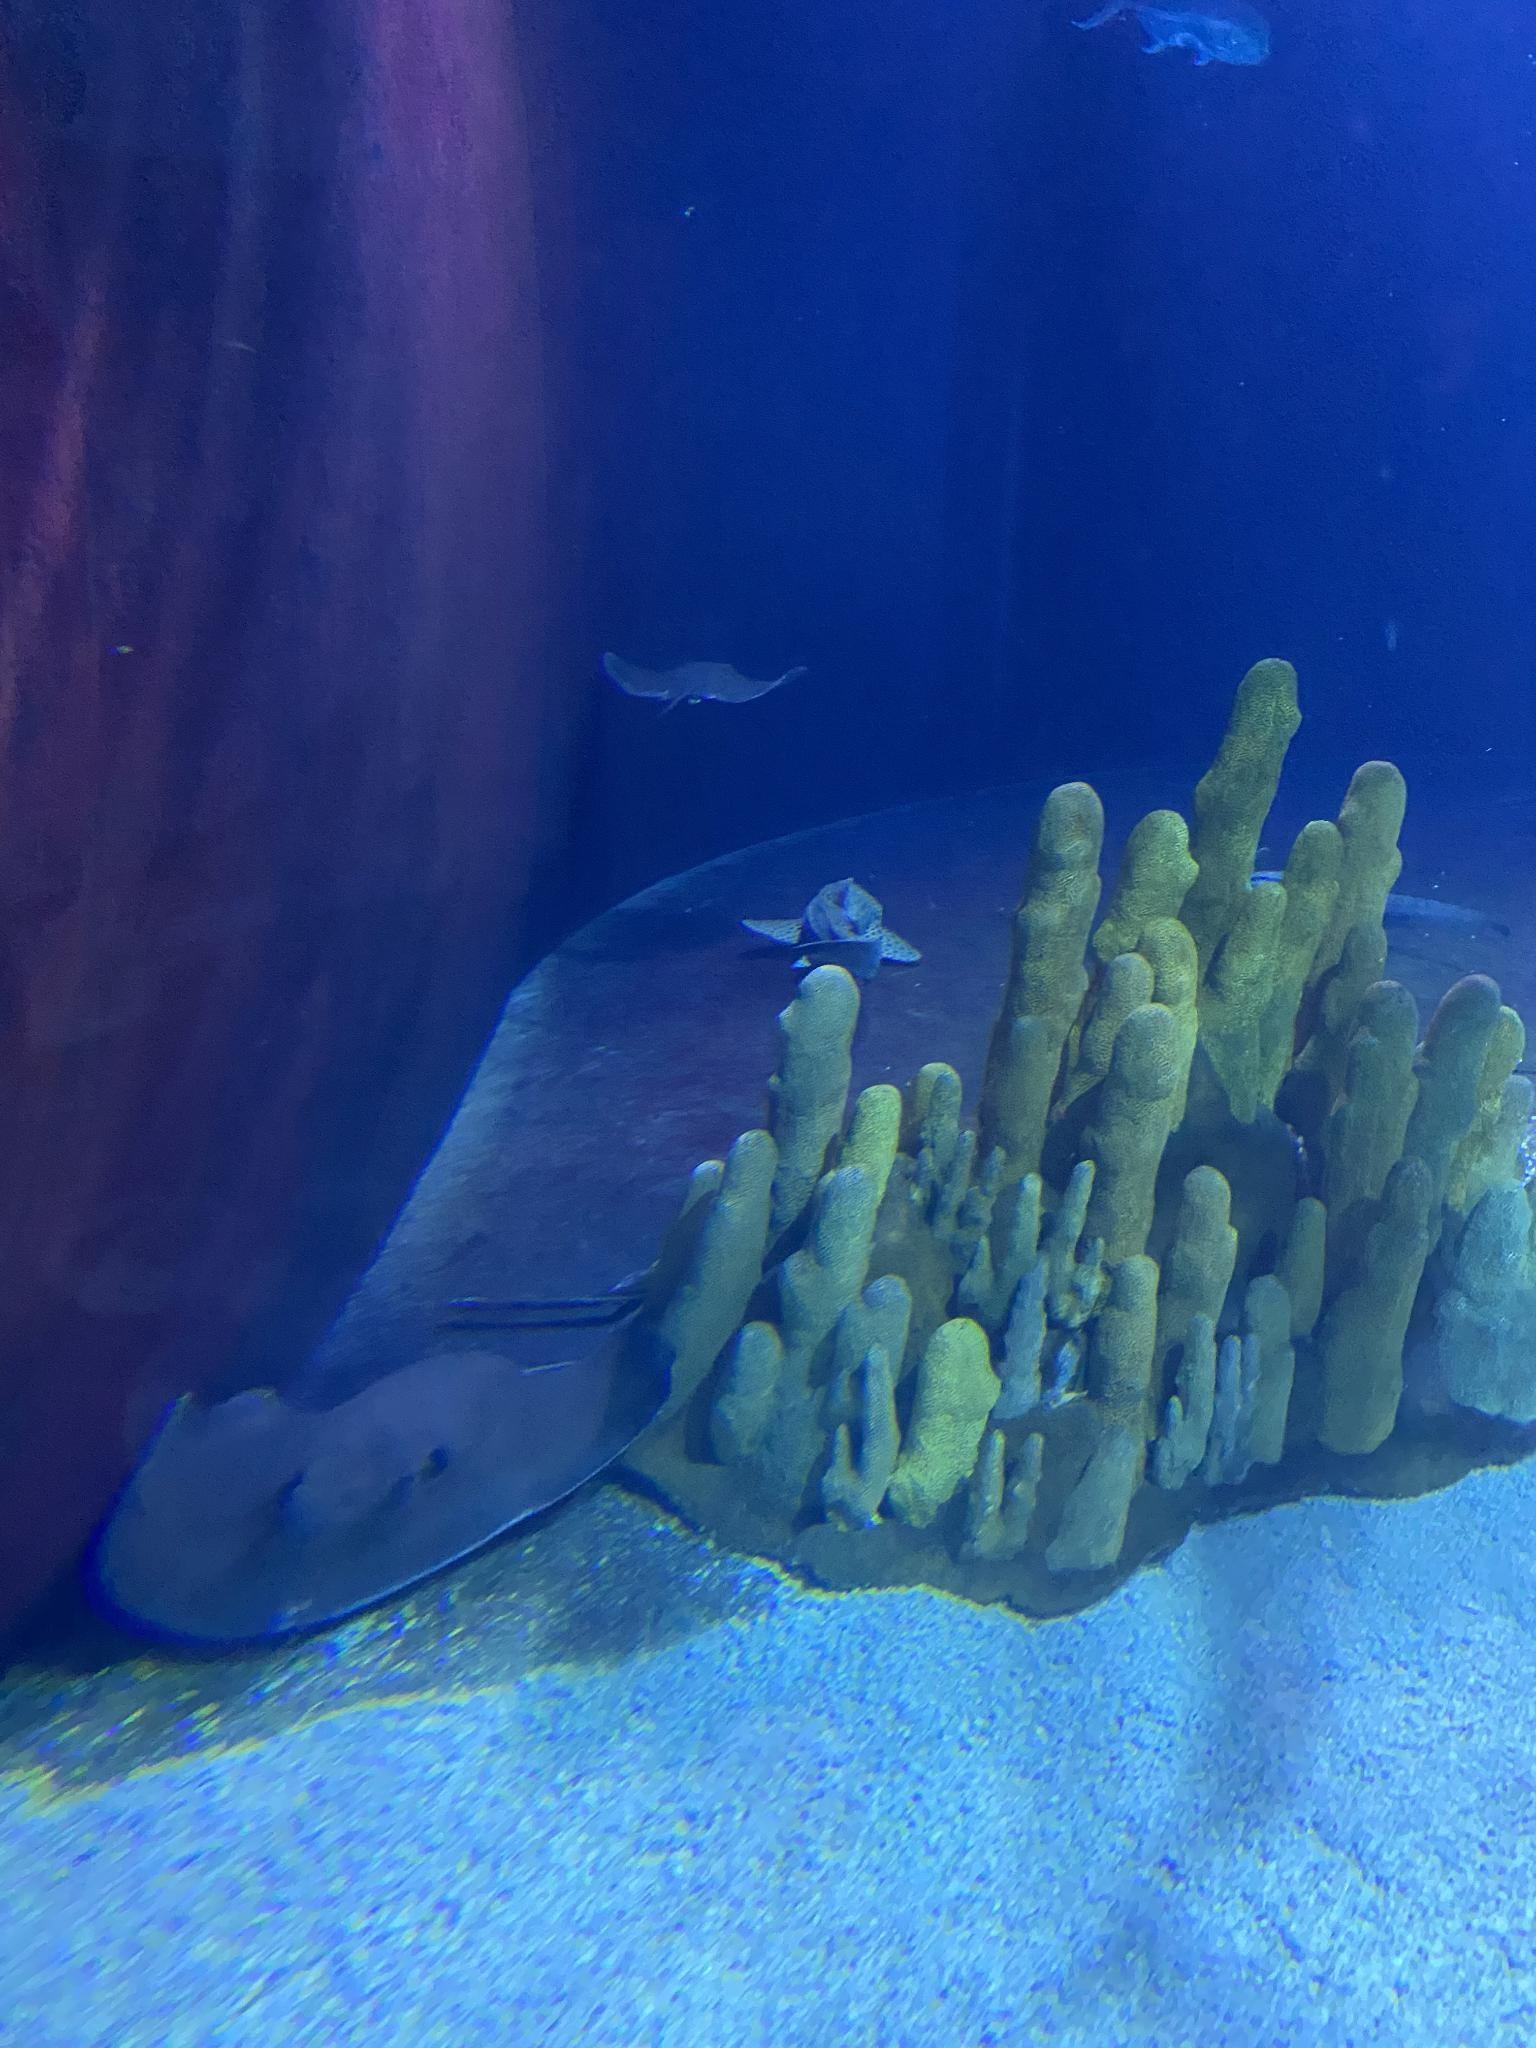fish: (1071, 0, 1271, 68)
shark: (741, 876, 921, 980)
stingray: (94, 1321, 678, 1640), (603, 651, 807, 703)
